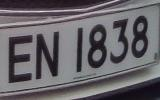1: (71, 21, 88, 77)
3: (109, 15, 133, 68)
8: (86, 17, 109, 74), (131, 12, 151, 63)
E: (2, 30, 36, 88)
N: (32, 27, 64, 85)
